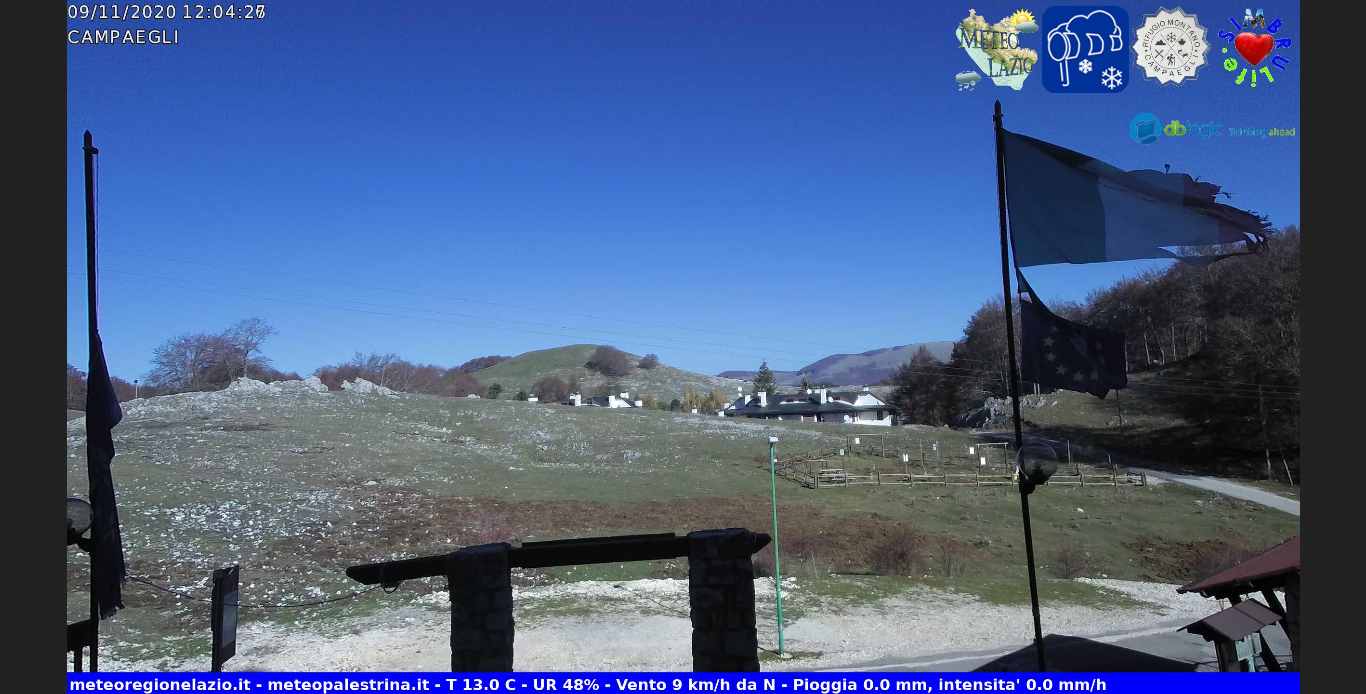maybe: (990, 114, 1285, 274), (1003, 290, 1138, 405)
